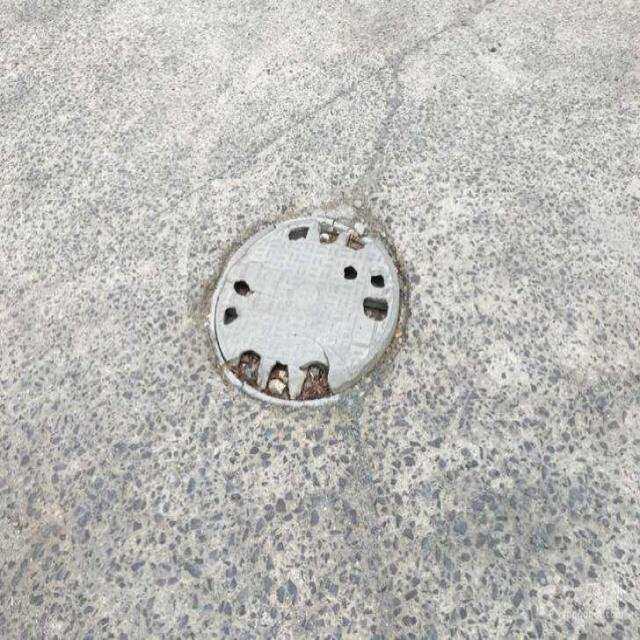Broken: (209, 213, 400, 406)
